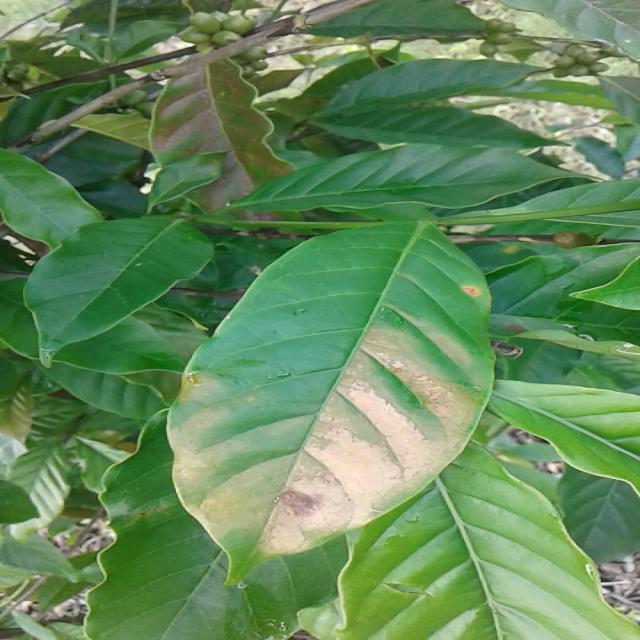Plaga-AranaRoja: (165, 222, 496, 588)
